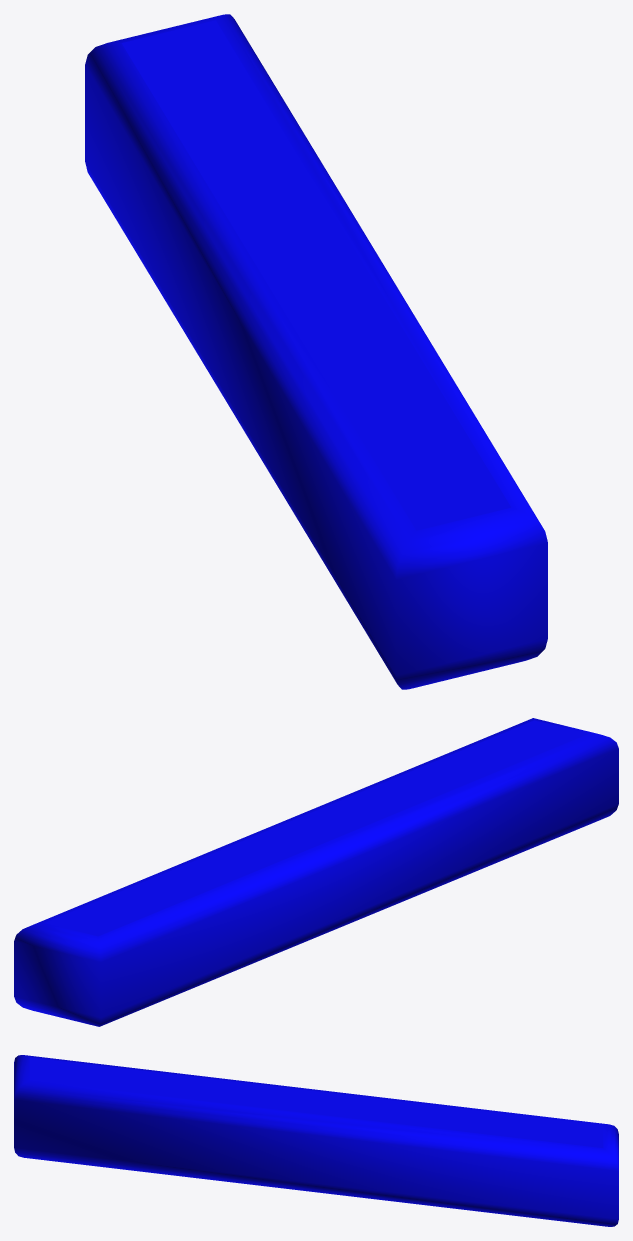
3 views of the same model, one above another, from view 1: azimuth 30°, elevation 25°; view 2: azimuth 150°, elevation 25°; view 3: azimuth 270°, elevation 25° (orthographic). The views are drawn at different scales.
Parts seen in each view (by area): view 1: 47; view 2: 47; view 3: 47.
Boxes of the visible parts, x1,y1,x2,y2 form: 47: [85, 14, 547, 689]; 47: [14, 718, 618, 1026]; 47: [14, 1055, 618, 1226].
Size of the model in its own units: 0.4871 by 0.16 by 1.15.
